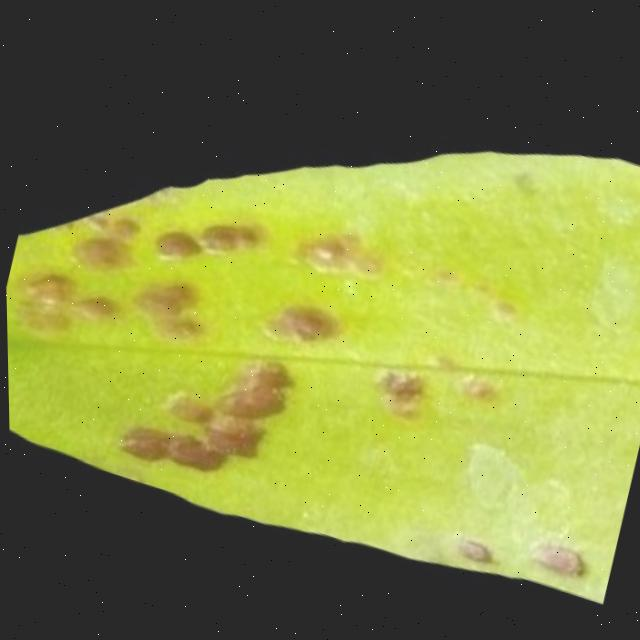mite: (114, 411, 228, 485), (212, 343, 299, 432), (9, 261, 86, 343), (65, 224, 133, 282), (150, 221, 206, 269), (74, 287, 125, 329)
spots: (5, 4, 640, 628)
